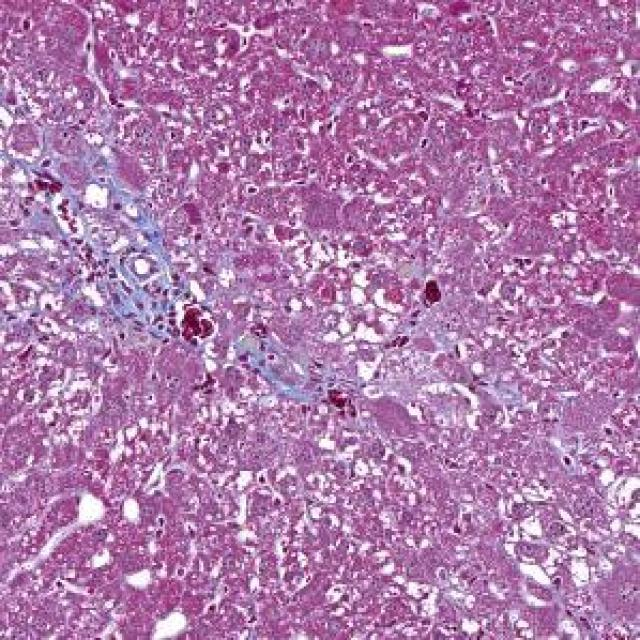fibrosis: (73, 208, 197, 323), (255, 336, 413, 415)
